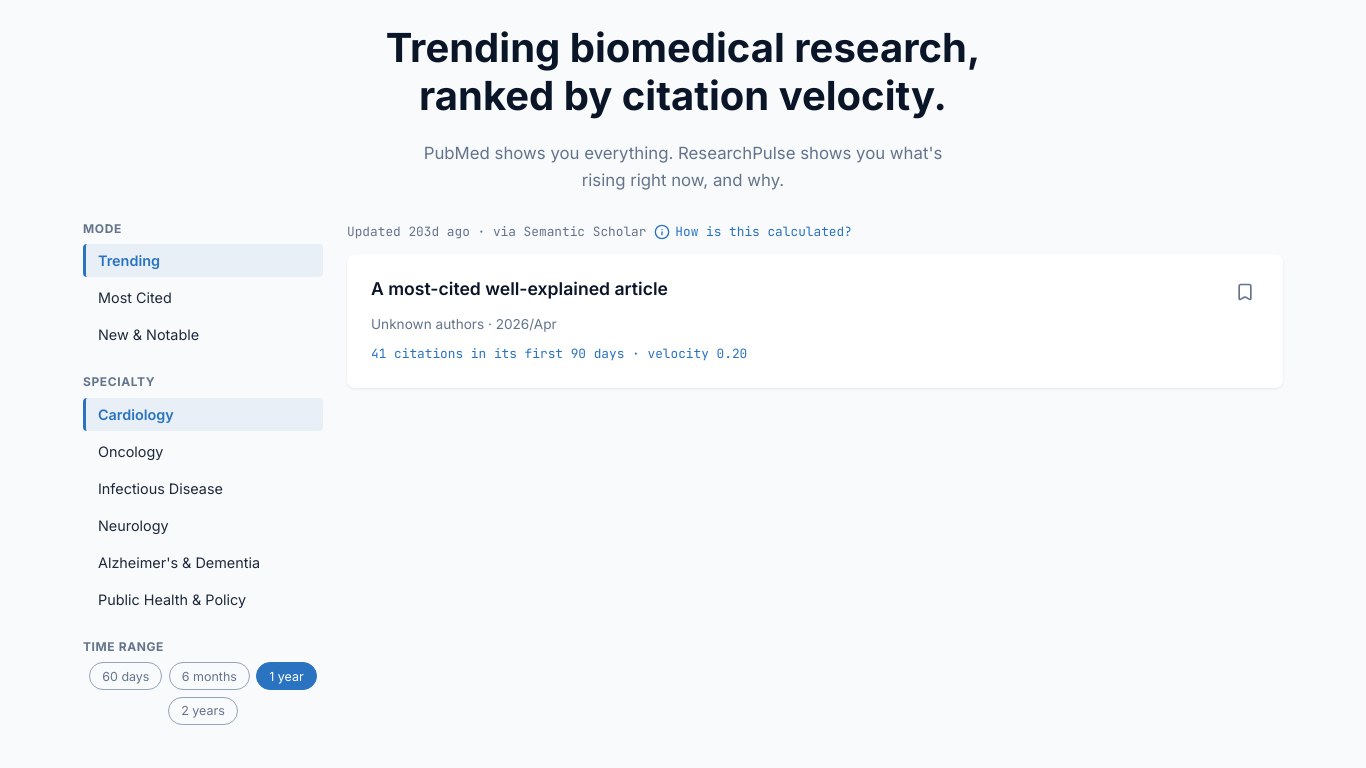
it: TrendingPage › folds the "overall" qualifier into the citation-stat line in Most Cited mode
Expected: the heading "A most-cited well-explained article" is shown, top-left (371, 278), bottom-right (668, 299)
Click the radio button labelled "Most Cited": (203, 298) top-left (83, 281), bottom-right (323, 314)
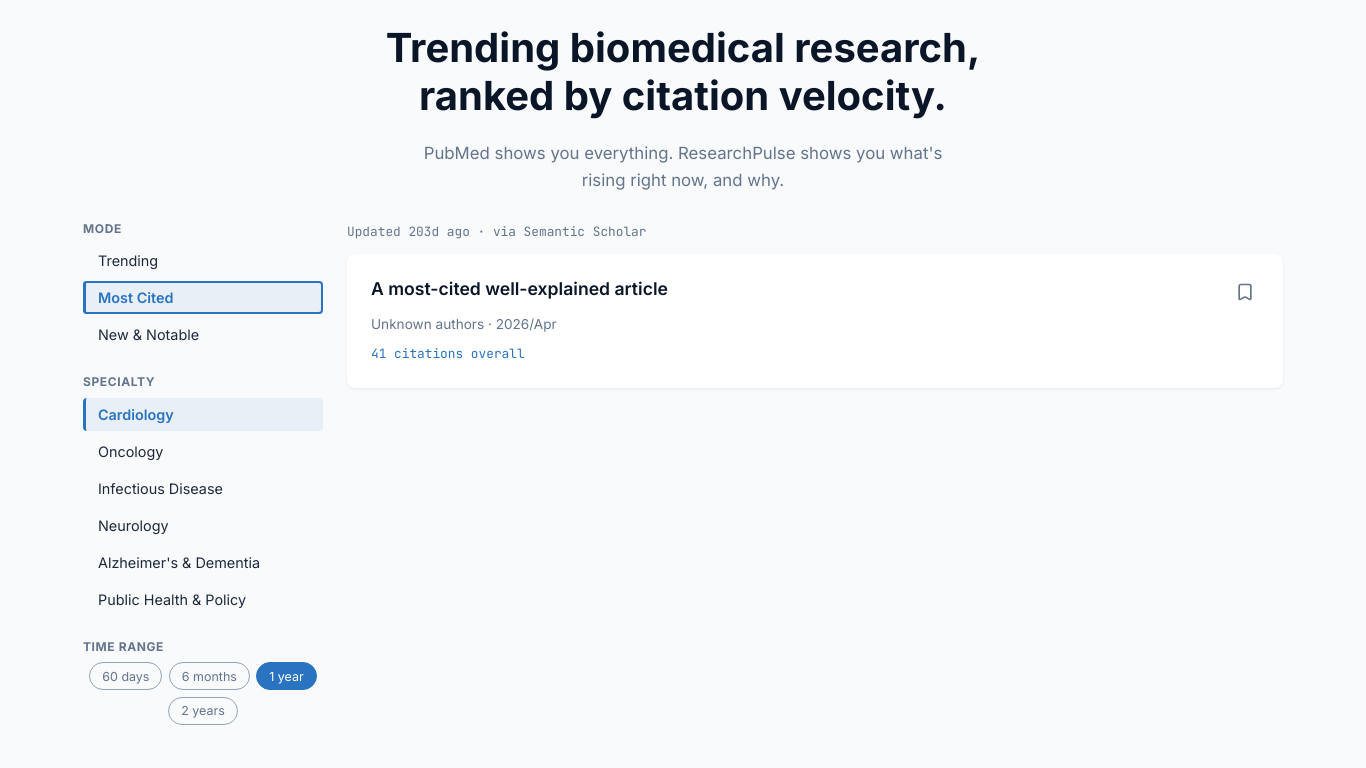
Now the text "41 citations overall" is shown, box top-left (371, 344), bottom-right (525, 364)
